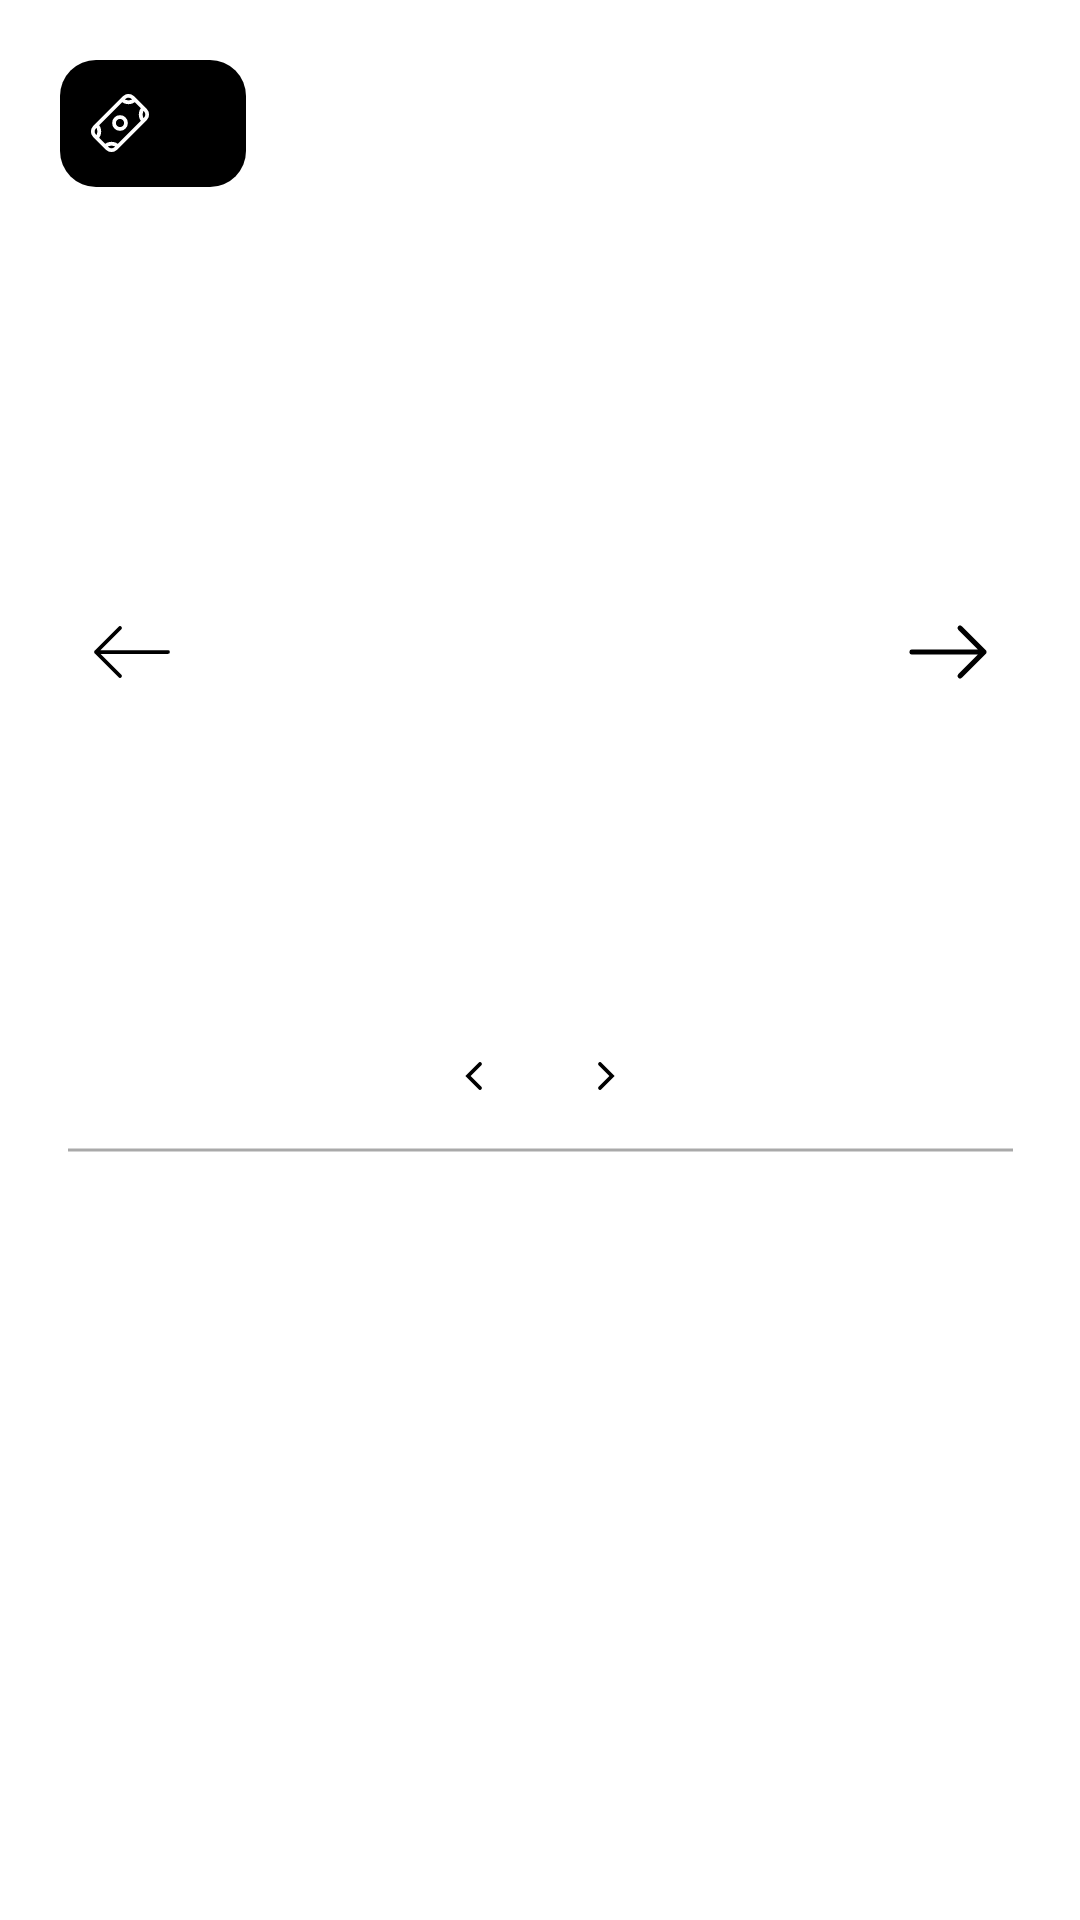

Named icons in this screenshot (1080 × 1920) and their centers, (x=x, y=y):
arrow right: (x=948, y=652)
back: (x=132, y=652)
chevron left: (x=473, y=1076)
chevron right: (x=606, y=1076)
